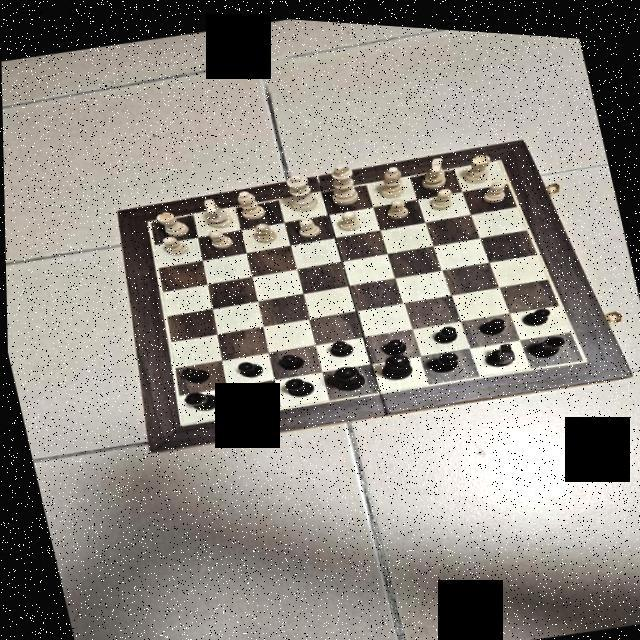chess-table-corners: (172, 415, 190, 428), (574, 347, 592, 358), (492, 148, 506, 158), (142, 213, 154, 224)
